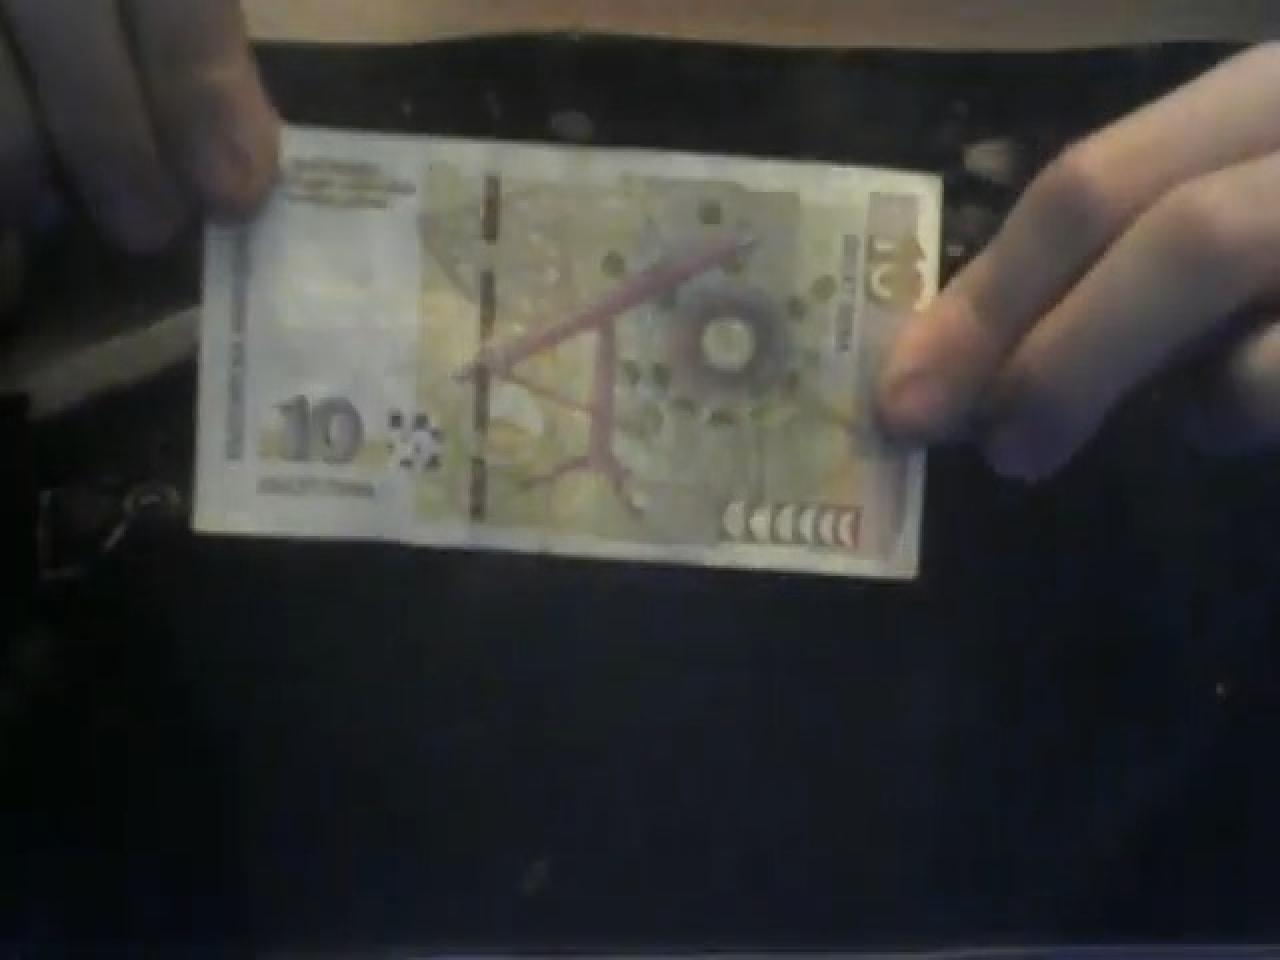10leva: (191, 128, 946, 584)
